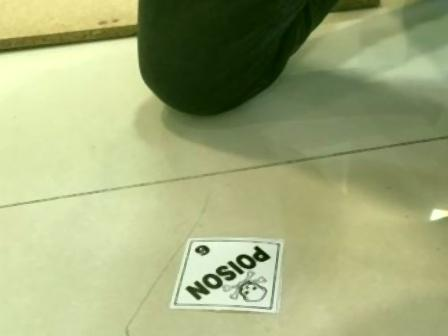poison: (167, 237, 288, 314)
